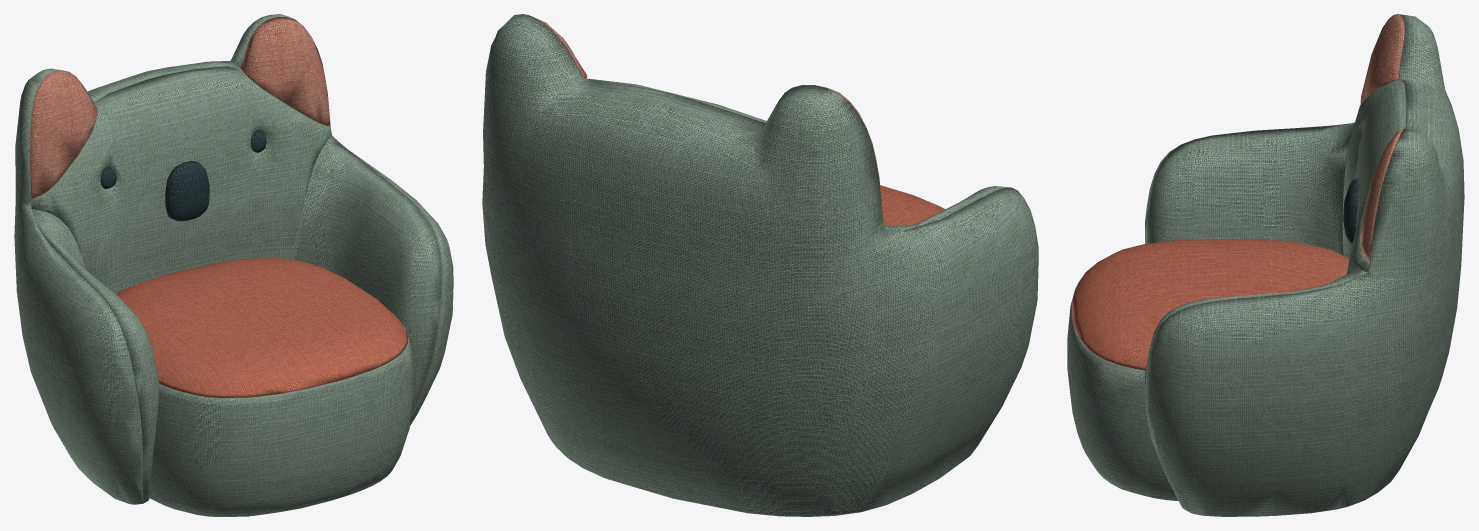
The model's file is kid_chair_koala.glb.
The picture shows the model from 3 angles, left to right: view 1: azimuth 30°, elevation 25°; view 2: azimuth 150°, elevation 25°; view 3: azimuth 270°, elevation 25°; orthographic projection. The views are drawn at different scales.
Visible parts, largest first — view 1: Box006_FA_011_0, Box006_FA_004_0, Box006_FA_003_0, Box006_FA_012_0; view 2: Box006_FA_011_0, Box006_FA_004_0; view 3: Box006_FA_011_0, Box006_FA_004_0, Box006_FA_003_0, Box006_FA_012_0.
Boxes of the visible parts, x1=… form: Box006_FA_011_0: x1=14, y1=14, x2=453, y2=516; Box006_FA_004_0: x1=116, y1=257, x2=407, y2=397; Box006_FA_003_0: x1=30, y1=17, x2=330, y2=198; Box006_FA_012_0: x1=100, y1=132, x2=266, y2=221; Box006_FA_011_0: x1=482, y1=14, x2=1038, y2=516; Box006_FA_004_0: x1=880, y1=185, x2=945, y2=225; Box006_FA_011_0: x1=1067, y1=14, x2=1464, y2=516; Box006_FA_004_0: x1=1072, y1=239, x2=1349, y2=370; Box006_FA_003_0: x1=1360, y1=14, x2=1404, y2=261; Box006_FA_012_0: x1=1343, y1=178, x2=1358, y2=244.
Size of the model in its own units: 0.714 by 0.6451 by 0.6243.
4 materials, 4 textured.
